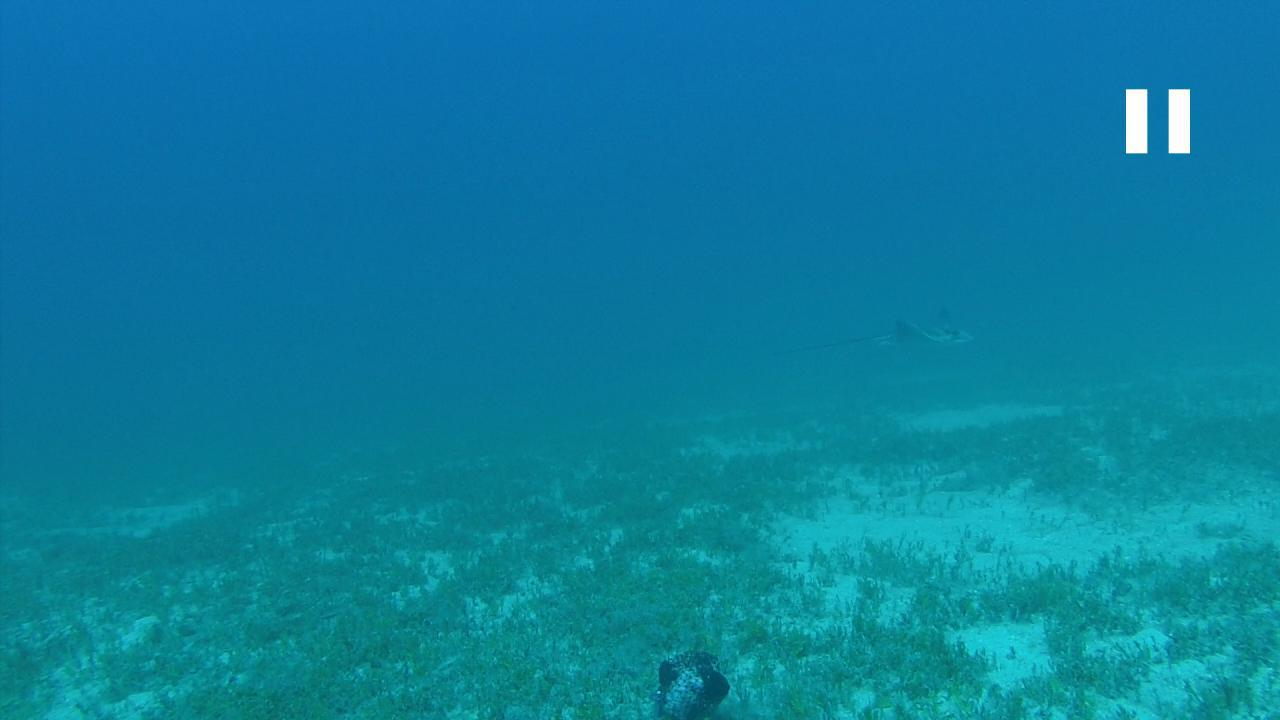dasyatis: (764, 303, 972, 355)
